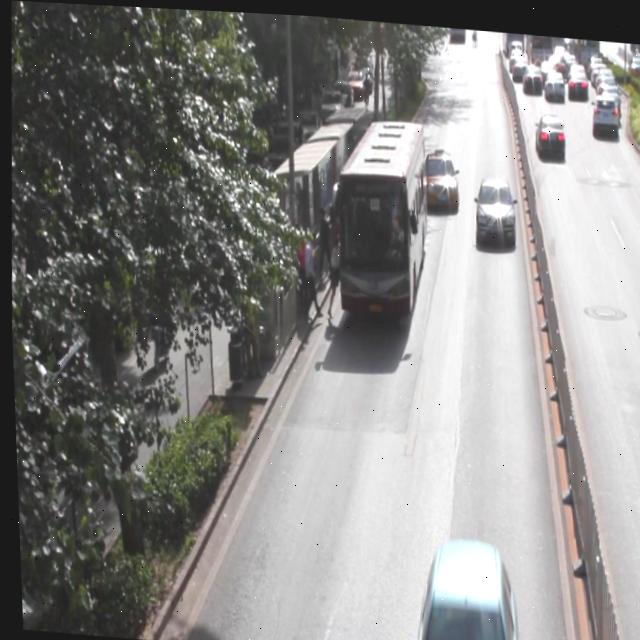car: (407, 531, 514, 640), (471, 170, 514, 238), (420, 146, 457, 203), (532, 107, 564, 151)
van: (329, 113, 430, 315)
